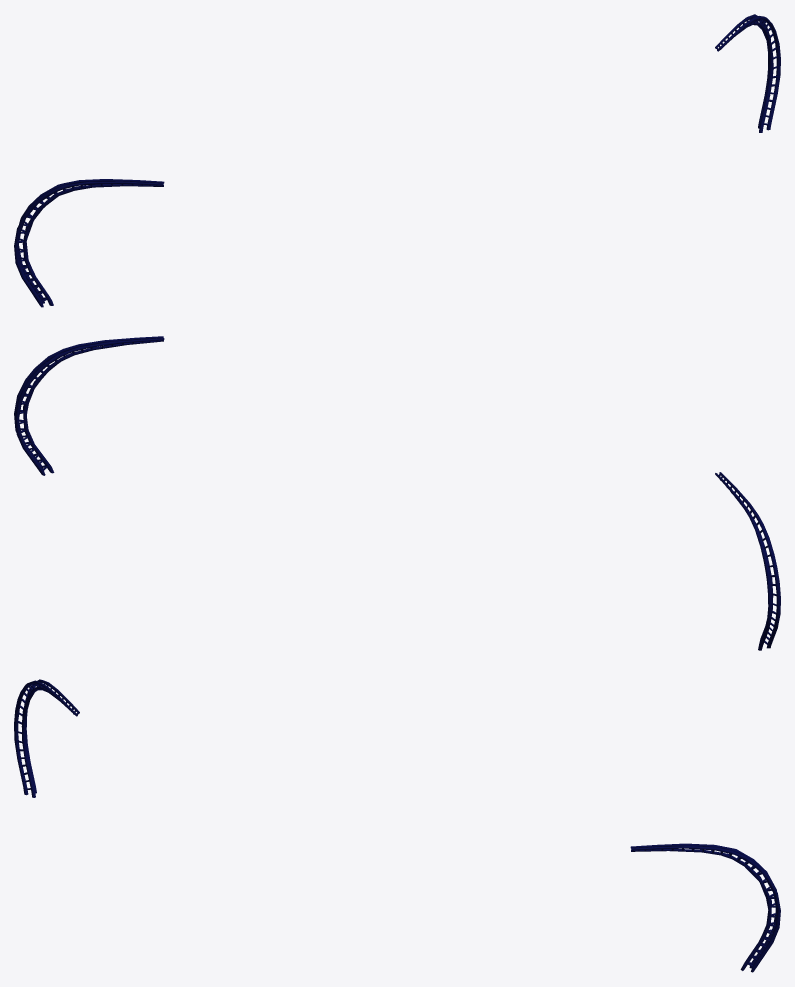
The model's file is Al_Nasar_Football_Stadium_NurbsPath_021.FBX.
3 renders of one model, top to bottom at view 1: azimuth 30°, elevation 25°; view 2: azimuth 150°, elevation 25°; view 3: azimuth 330°, elevation 25°, orthographic.
Parts seen in each view (by area): view 1: Al_Nasar_Football_Stadium_NurbsPath_021; view 2: Al_Nasar_Football_Stadium_NurbsPath_021; view 3: Al_Nasar_Football_Stadium_NurbsPath_021.
Boxes of the visible parts, x1=… form: Al_Nasar_Football_Stadium_NurbsPath_021: x1=14, y1=14, x2=780, y2=307; Al_Nasar_Football_Stadium_NurbsPath_021: x1=14, y1=336, x2=780, y2=650; Al_Nasar_Football_Stadium_NurbsPath_021: x1=14, y1=679, x2=780, y2=972.
Size of the model in its own units: 23997 by 2703 by 3874.
